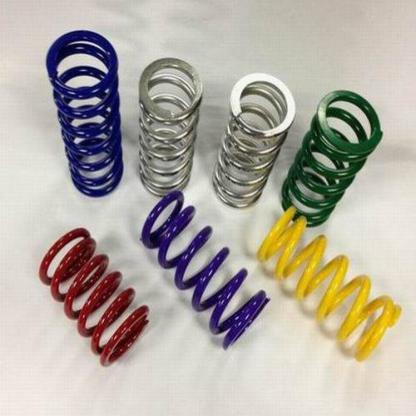FOD: (254, 203, 404, 363), (139, 186, 272, 357), (35, 222, 151, 371), (281, 84, 385, 225), (43, 27, 125, 202), (210, 68, 297, 214), (134, 54, 204, 200)
